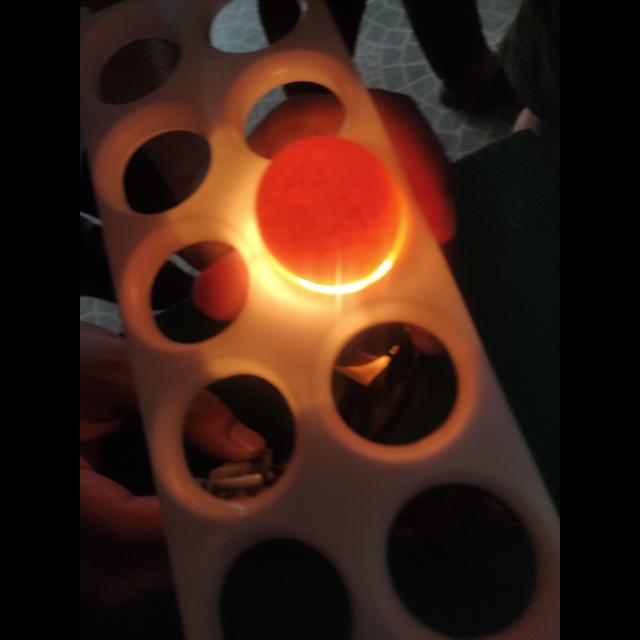Infertile: (254, 134, 408, 286)
